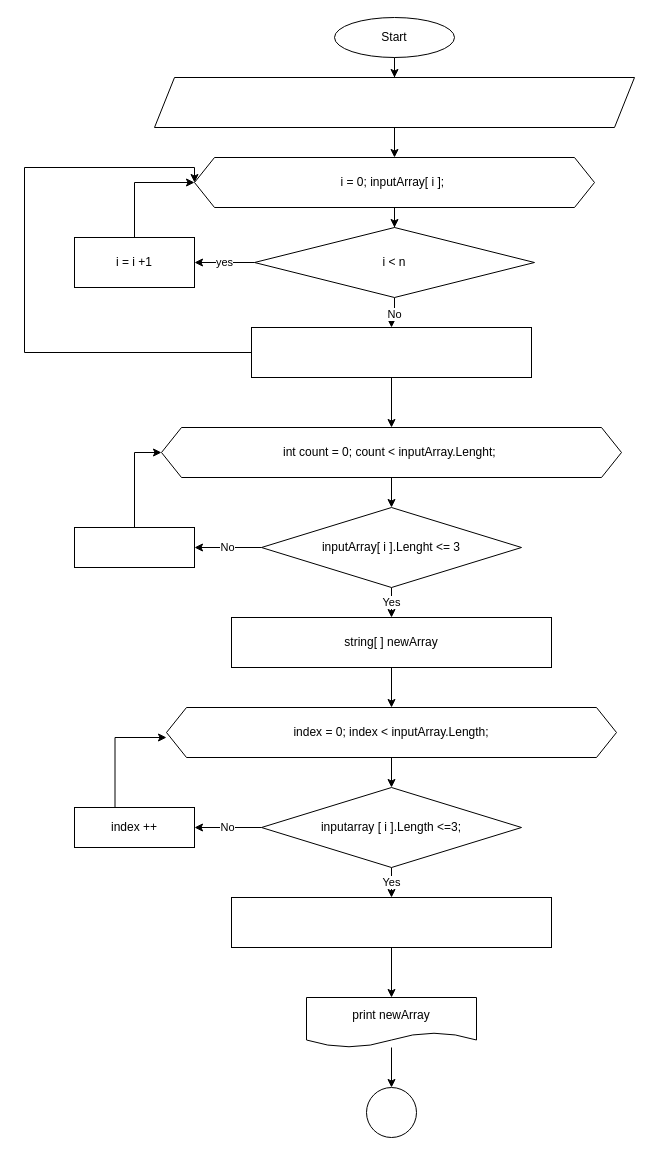
This 652x1155 diagram has some shape labels left out. Here are the shapes that lost their labels. From the top down, the box of each, then its label:
(154, 76, 634, 128): string[ ] inputArray = new string [ n ];
(250, 326, 532, 378): string [ ] newArray
(74, 526, 194, 568): count ++
(230, 896, 552, 948): newArray
(366, 1086, 416, 1138): End
